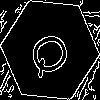Q: (25, 25, 80, 81)
